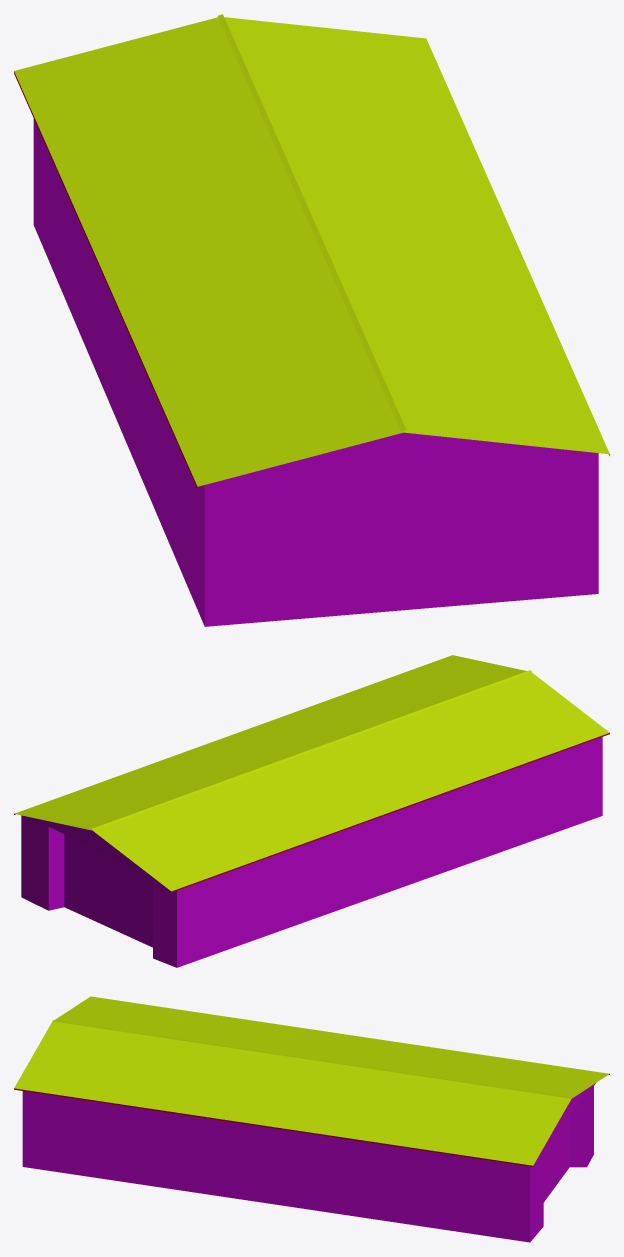
The model's file is bgj_94.glb.
3 views of the same model, one above another, from view 1: azimuth 30°, elevation 25°; view 2: azimuth 150°, elevation 25°; view 3: azimuth 270°, elevation 25° (orthographic). The views are drawn at different scales.
Visible parts, largest first — view 1: bgj_94; view 2: bgj_94; view 3: bgj_94.
Boxes of the visible parts, left/top/right/bottom form: bgj_94: left=14, top=14, right=609, bottom=626; bgj_94: left=14, top=655, right=609, bottom=967; bgj_94: left=14, top=996, right=609, bottom=1242.
Bounding box in the file's own units: 32.63 × 9.14 × 48.53.
